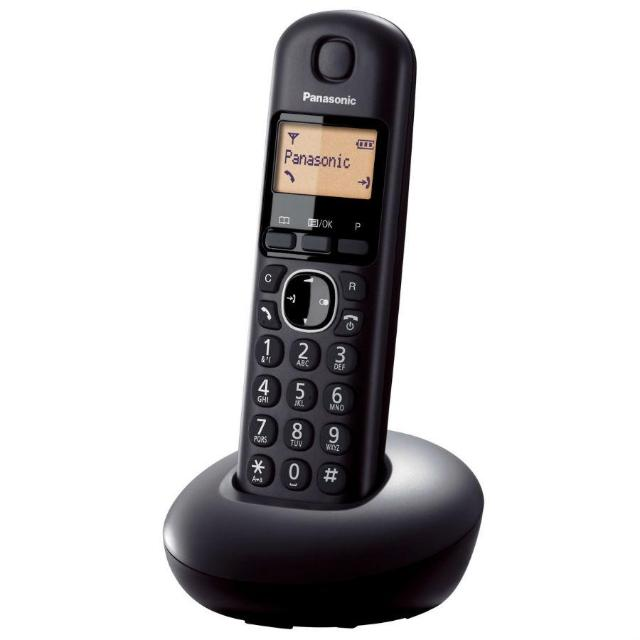Telephone-Set: (146, 0, 606, 640)
